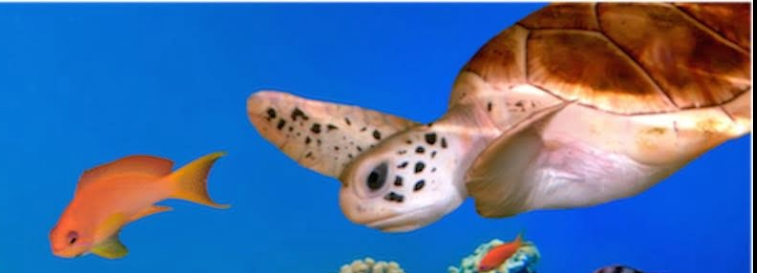fishSmall: (49, 150, 234, 261)
turtle: (245, 10, 736, 234)
